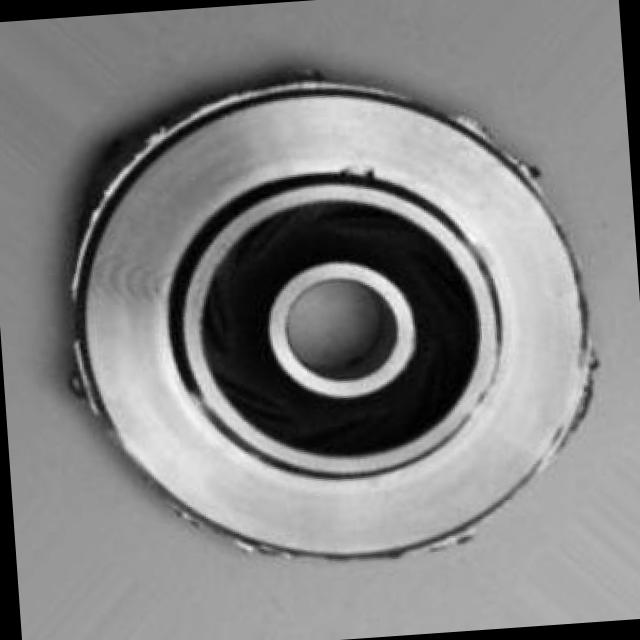Defect: (54, 340, 103, 415)
